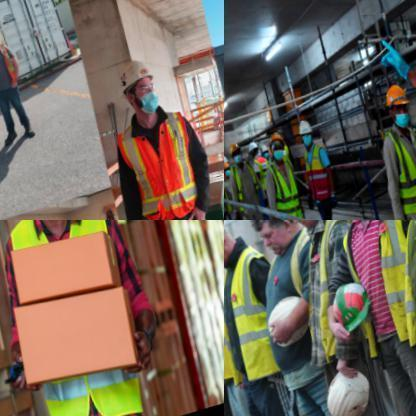vest: (0, 220, 159, 415), (288, 220, 391, 372), (109, 106, 214, 219), (335, 220, 415, 368), (224, 241, 295, 392), (384, 123, 415, 219), (269, 157, 311, 219), (302, 145, 341, 211), (227, 155, 269, 214), (224, 274, 239, 385), (0, 43, 26, 96), (254, 154, 275, 192)
